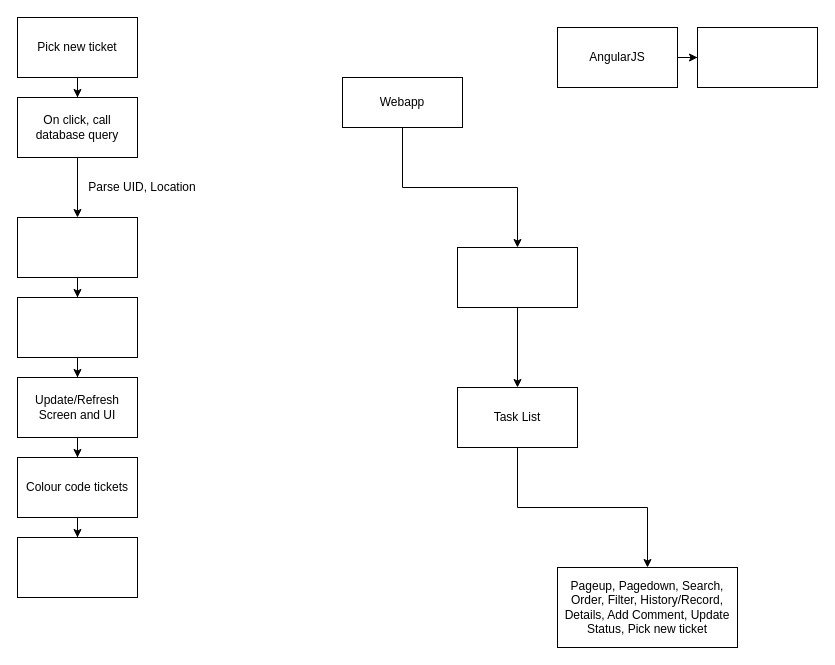
Image size: 835x665. Some labels were removed from this diagram. Here are the shapes that lost their labels. From the top down, the box of each, then its label:
(696, 26, 818, 88): React
(16, 216, 138, 278): Return record(s) (max 1 or 2)
(456, 246, 578, 308): User Login Func
(16, 296, 138, 358): Merge to local list
